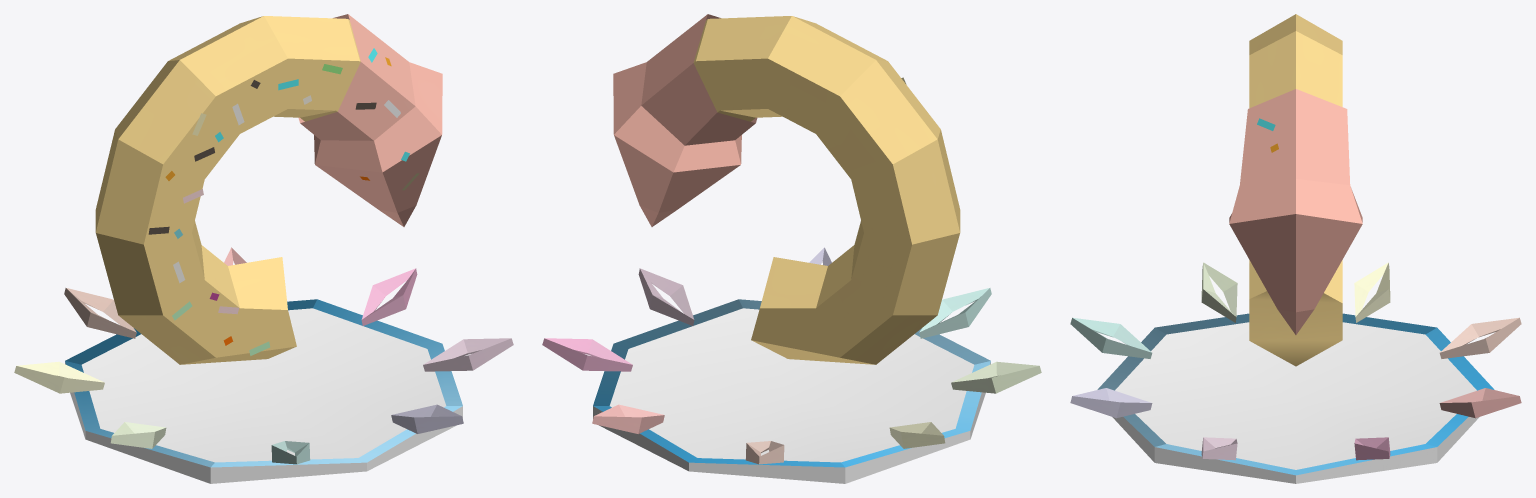
File: SM_Button_Restart.fbx
3 views of the same model, side by side, from view 1: azimuth 30°, elevation 25°; view 2: azimuth 150°, elevation 25°; view 3: azimuth 270°, elevation 25° (orthographic). The views are drawn at different scales.
Visible parts, largest first — view 1: SM_Button_Restart; view 2: SM_Button_Restart; view 3: SM_Button_Restart.
Part boxes in pixels (box(x1,y1,x2,y2)): SM_Button_Restart: box(14, 14, 513, 483); SM_Button_Restart: box(542, 14, 1041, 483); SM_Button_Restart: box(1070, 14, 1521, 483).
Size of the model in its own units: 19.83 by 18.93 by 19.83.
